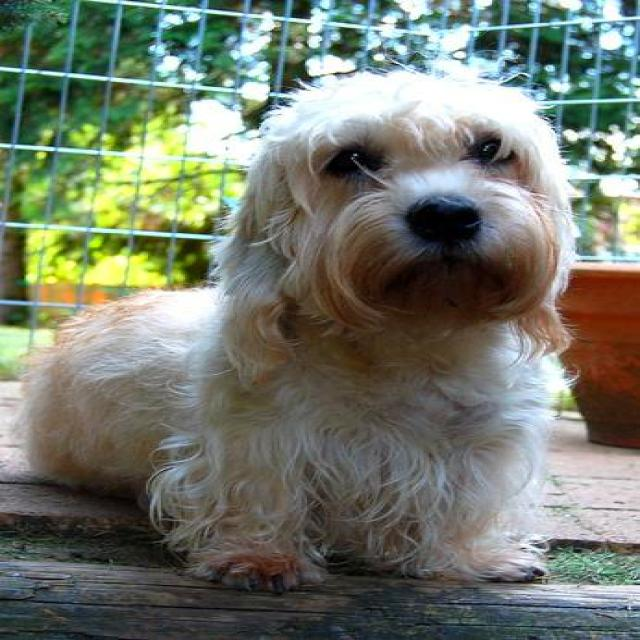dandie_dinmont: (11, 65, 577, 592)
